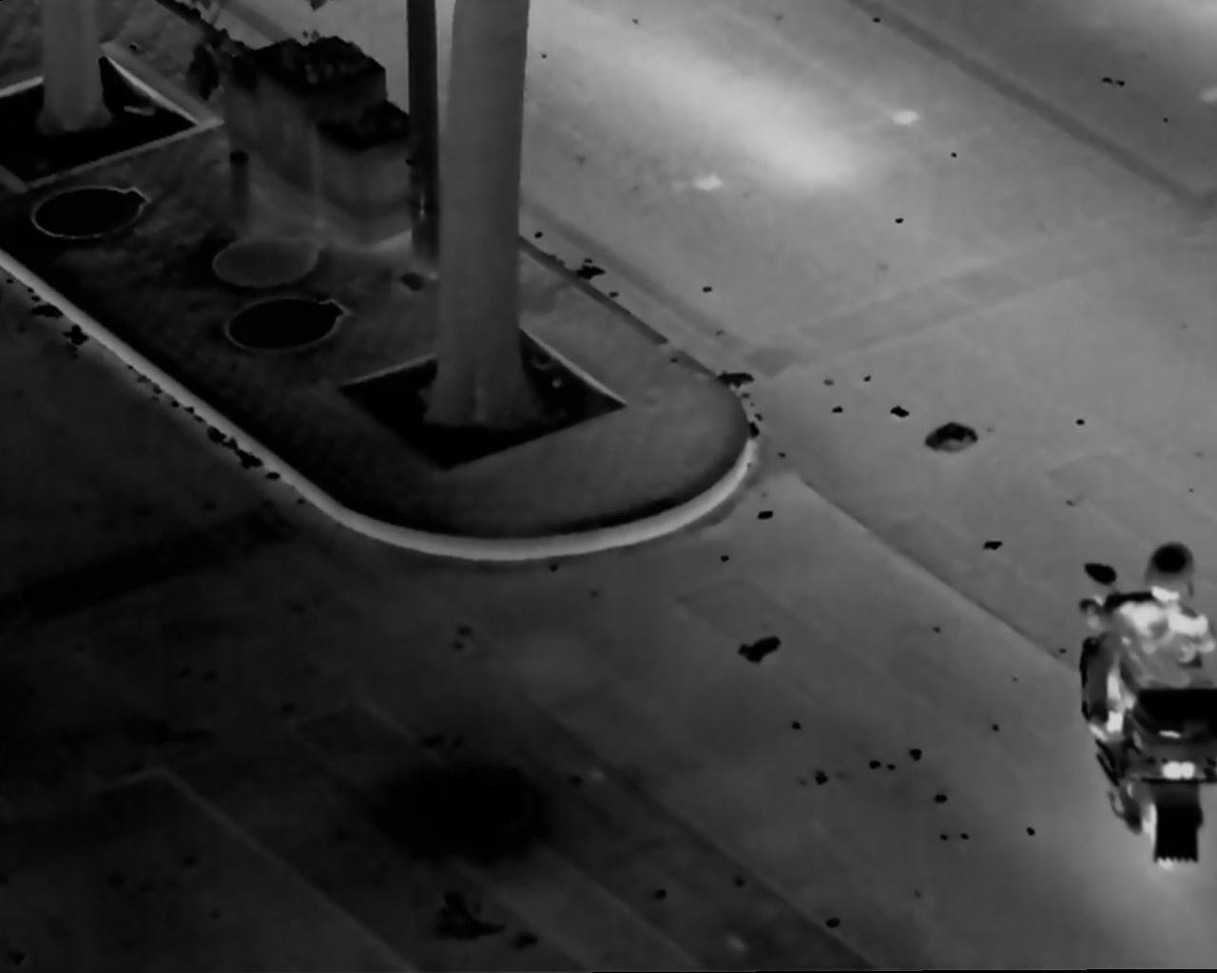person: (1113, 541, 1217, 698)
